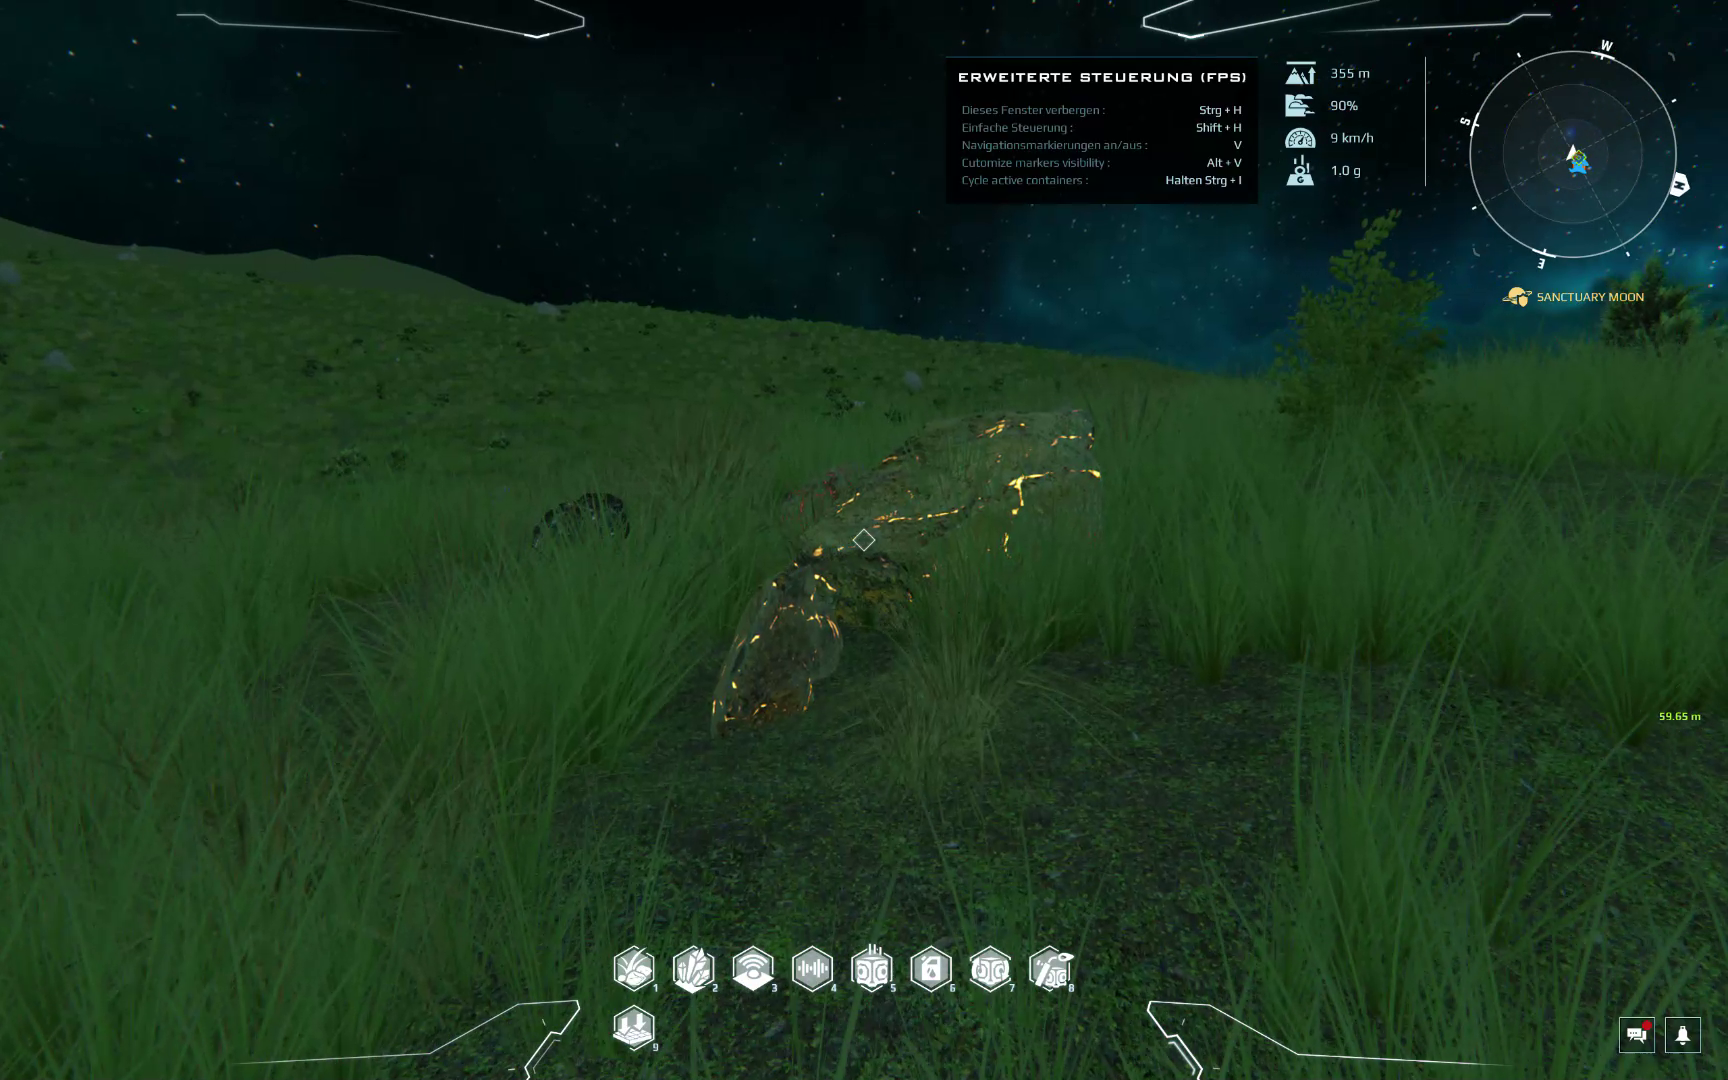Ore: (812, 408, 1108, 627), (700, 571, 843, 743), (519, 486, 649, 560), (763, 468, 873, 551)
